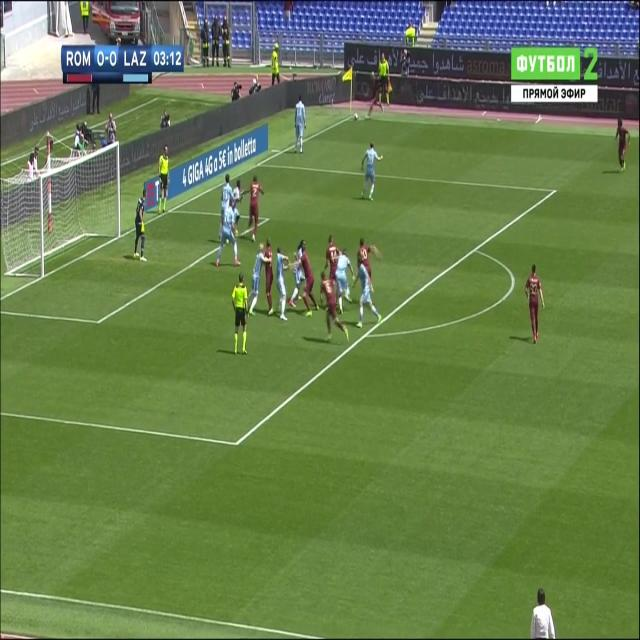Ball: (352, 112, 359, 124)
Goalkeeper: (133, 187, 148, 266)
Player: (319, 270, 352, 347), (356, 259, 383, 332), (212, 199, 238, 271), (358, 140, 385, 204), (524, 264, 544, 346), (244, 173, 267, 243), (301, 246, 321, 318), (335, 247, 355, 317), (247, 242, 264, 314), (613, 116, 633, 174), (290, 238, 305, 314), (292, 93, 308, 158), (275, 244, 288, 322), (357, 237, 381, 275), (366, 70, 383, 120), (265, 237, 275, 319), (220, 176, 232, 236), (323, 233, 339, 276), (232, 178, 244, 214)
Referee: (229, 268, 250, 360), (157, 146, 171, 219), (377, 51, 394, 107)
